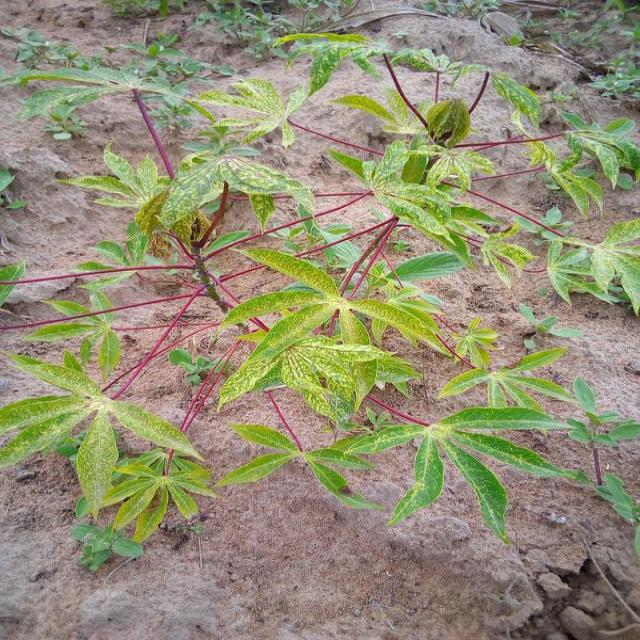cassava leaf: (0, 23, 638, 564)
